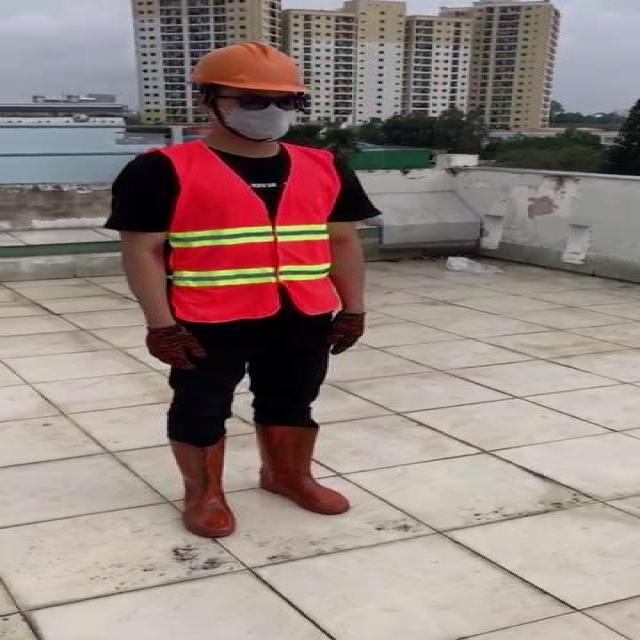boots: (252, 425, 350, 514), (167, 439, 237, 538)
face_mask: (221, 92, 307, 139)
glasses: (226, 88, 313, 115)
hand_glove: (146, 325, 210, 369), (327, 310, 368, 357)
head_helmet: (186, 42, 316, 94)
person: (106, 40, 374, 534)
vest: (166, 142, 340, 323)
